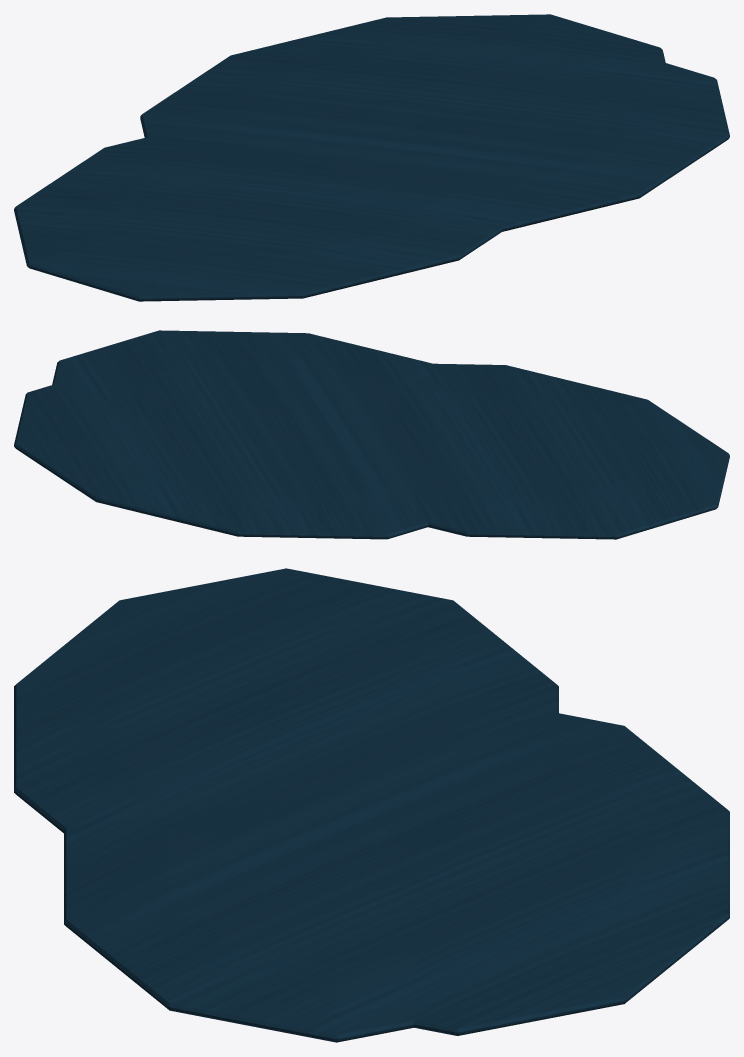
Rendered from PROP-0FDB03DA32AA_lod1.glb.
The picture shows the model from 3 angles, top to bottom: view 1: azimuth 30°, elevation 25°; view 2: azimuth 150°, elevation 25°; view 3: azimuth 270°, elevation 25°; orthographic projection. The views are drawn at different scales.
Parts seen in each view (by area): view 1: surface_hazard.007; view 2: surface_hazard.007; view 3: surface_hazard.007.
Part boxes in pixels (x1,y1,x2,y2): surface_hazard.007: [14, 14, 729, 301]; surface_hazard.007: [14, 330, 729, 539]; surface_hazard.007: [14, 568, 729, 1042].
Size of the model in its own units: 1.58 by 0.036 by 1.02.
Materials: 1 (1 with a texture image).
